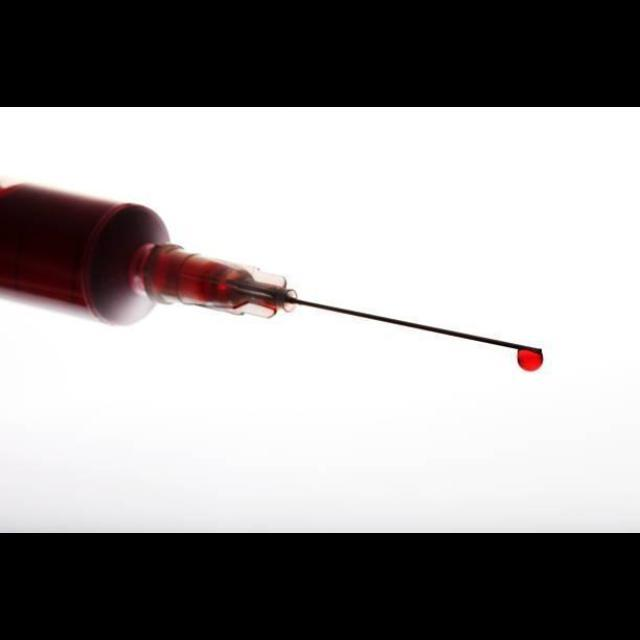blood: (0, 183, 295, 325), (520, 350, 544, 372)
